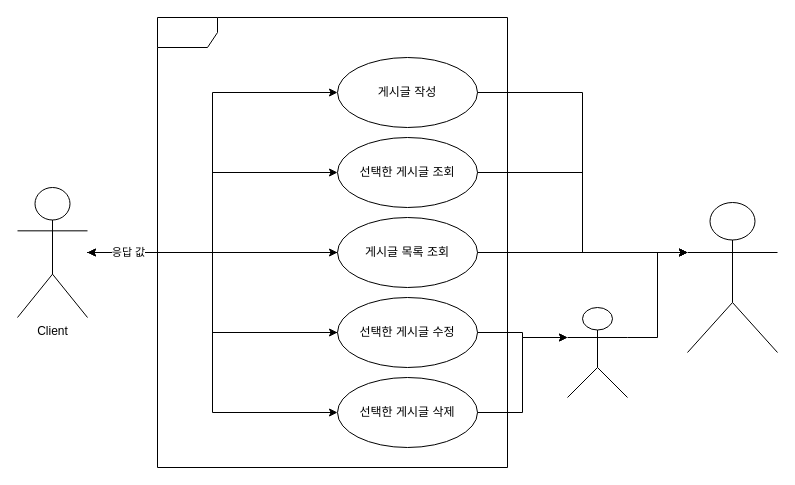
The diagram is 795 pixels wide and 485 high, and some of its shapes have lost their labels. The shapes that lost their labels are listed below. From the top down, each one's centre as x and y in pixels, then its label:
the point at 332,242: 게시글 Rest API
the point at 732,277: Database
the point at 597,352: Auth
